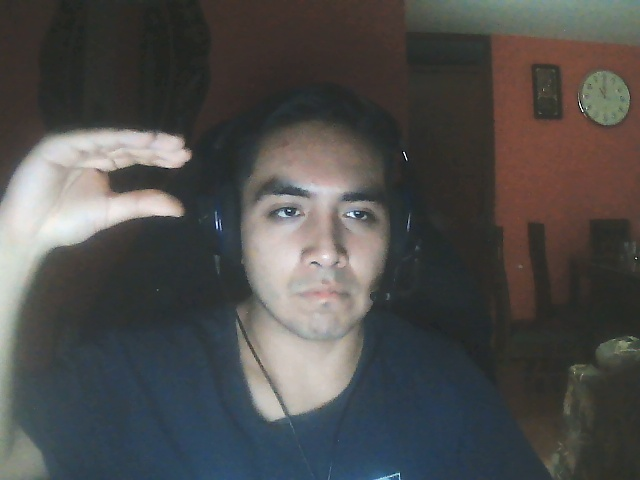no: (8, 122, 196, 250)
